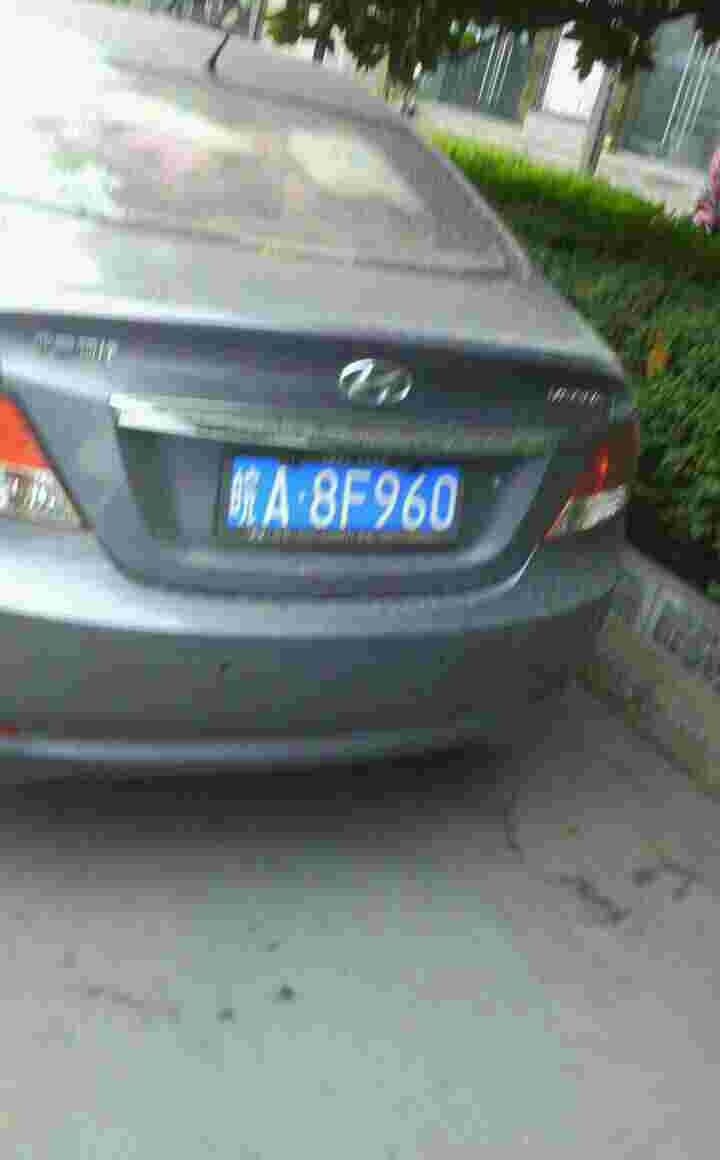license_plate: (234, 459, 453, 540)
